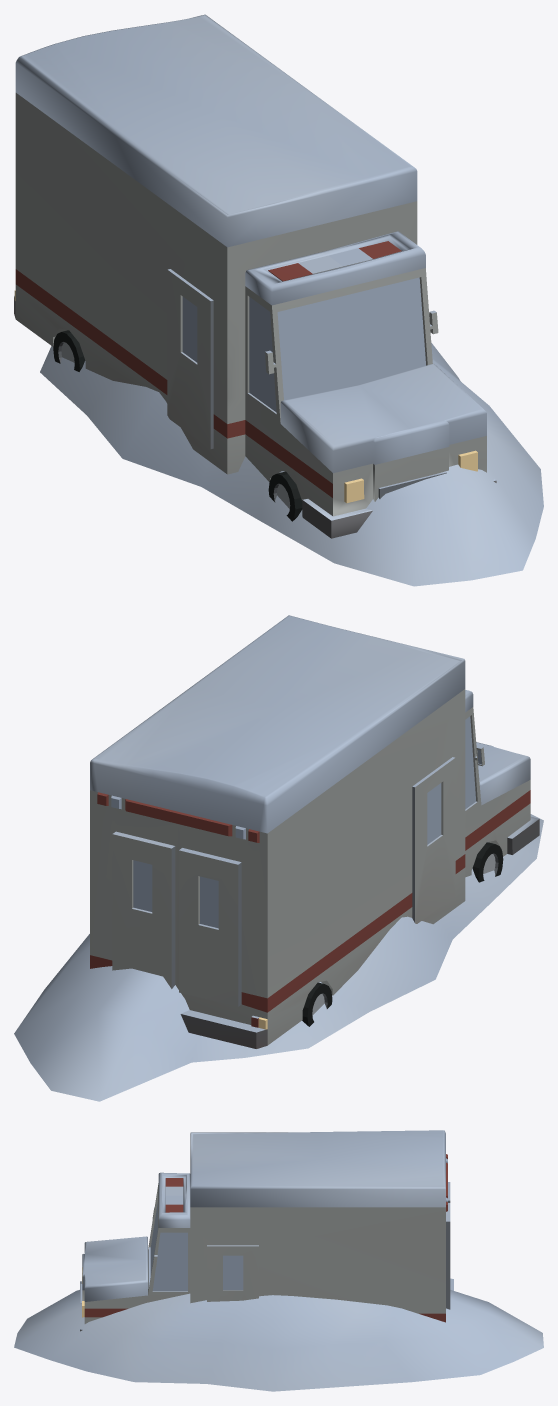
File: ambulance_snowed.glb
3 views of the same model, one above another, from view 1: azimuth 30°, elevation 25°; view 2: azimuth 150°, elevation 25°; view 3: azimuth 270°, elevation 25° (orthographic). The views are drawn at different scales.
Parts seen in each view (by area): view 1: Body; view 2: Body; view 3: Body.
Boxes of the visible parts, <box> form: Body: <box>14,14,543,586</box>; Body: <box>14,615,543,1101</box>; Body: <box>14,1130,543,1391</box>.
Size of the model in its own units: 3.94 by 3.3 by 8.92.
